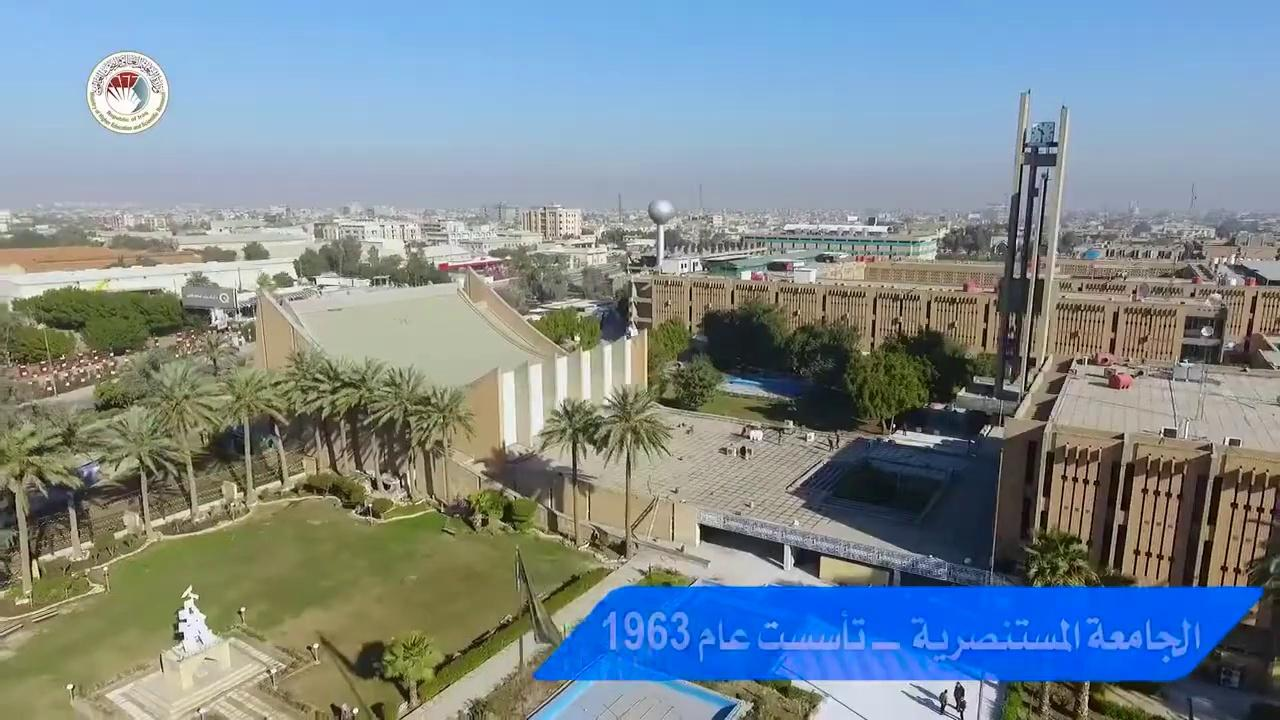car: (1219, 666, 1240, 689)
fountain: (511, 543, 743, 718)
person: (953, 681, 964, 709), (938, 688, 948, 714), (957, 696, 966, 719), (237, 605, 246, 625)
tree: (0, 331, 476, 598), (1018, 524, 1102, 718), (0, 416, 83, 599), (591, 382, 673, 558), (137, 356, 224, 521), (92, 404, 185, 536), (34, 402, 104, 558), (212, 364, 286, 505), (534, 396, 603, 547), (363, 363, 432, 500), (277, 347, 344, 475), (406, 384, 476, 504), (842, 343, 933, 434), (327, 354, 387, 476), (1020, 524, 1101, 586), (783, 318, 858, 381), (380, 628, 436, 708), (82, 302, 150, 356), (659, 354, 720, 410), (529, 304, 600, 352), (647, 313, 691, 365), (193, 328, 235, 377), (399, 243, 435, 286), (241, 240, 269, 260)
